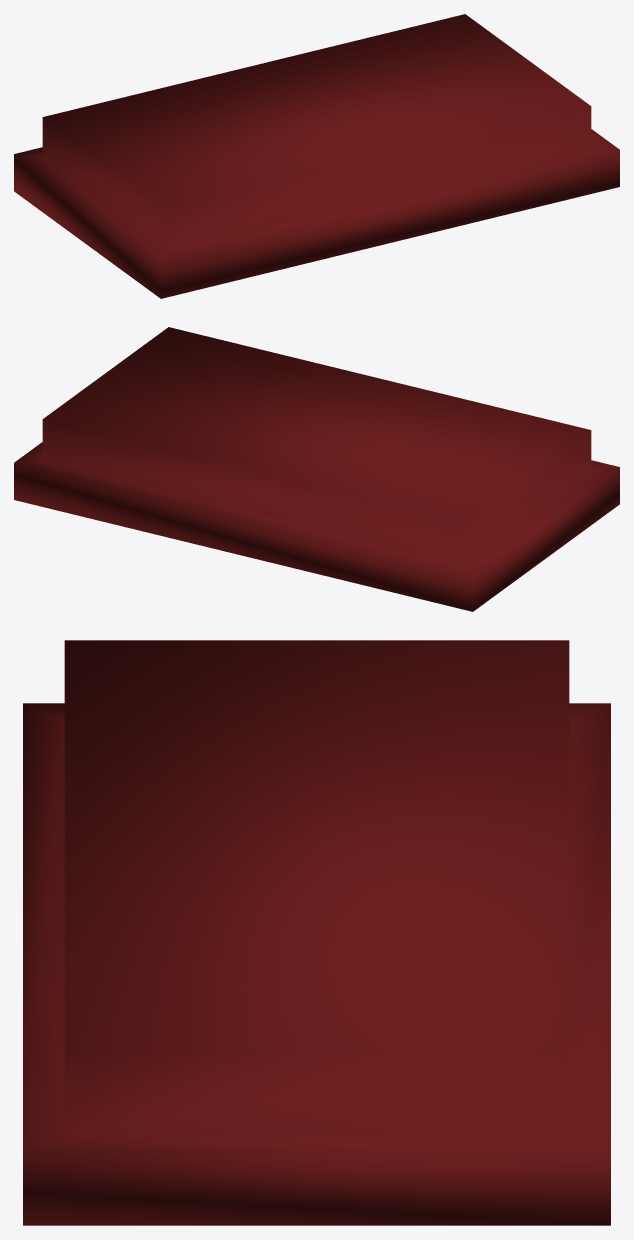
The model's file is LuzEmpotrada.fbx.
3 renders of one model, top to bottom at view 1: azimuth 30°, elevation 25°; view 2: azimuth 150°, elevation 25°; view 3: azimuth 270°, elevation 25°, orthographic. The views are drawn at different scales.
Parts seen in each view (by area): view 1: FocoLuz; view 2: FocoLuz; view 3: FocoLuz.
Part boxes in pixels (bbox=[...]): FocoLuz: bbox=[14, 14, 619, 298]; FocoLuz: bbox=[14, 327, 619, 611]; FocoLuz: bbox=[23, 640, 610, 1225].
Bounding box in the file's own units: 5.08 × 0.9047 × 2.82.
